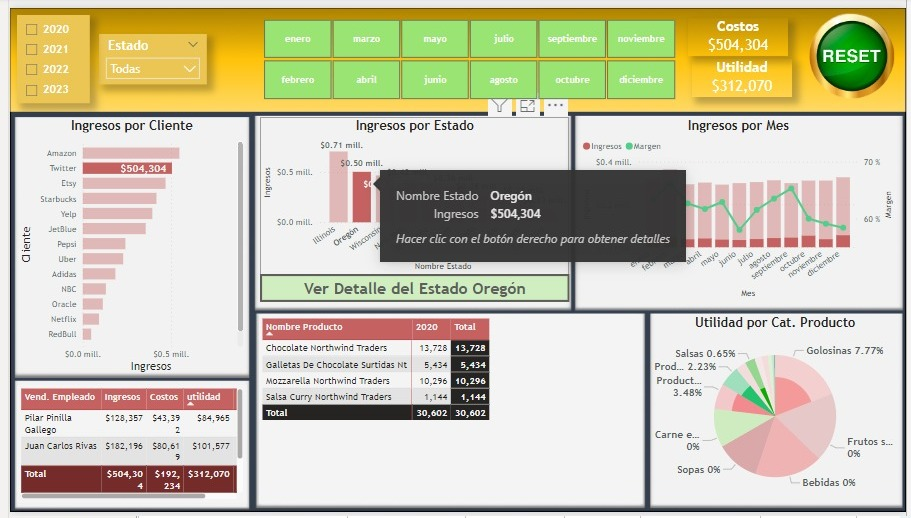

This screenshot's page, from the dashboard's own definition file:
{"tool":"powerbi","page":{"name":"Medidas ","canvas":[1280,720],"ordinal":3},"visuals":[{"type":"clusteredBarChart","title":"Ingresos por Cliente ","fields":{"Y":["Medidas DAX.Ingresos"],"Category":["Ventas.Cliente"]},"box":[9.7,155.7,328,371.1],"z":0},{"type":"columnChart","title":"Ingresos por Estado ","fields":{"Category":["Ventas.Nombre Estado"],"Y":["Medidas DAX.Ingresos"]},"box":[356.7,155.5,442.4,225.5],"z":1000},{"type":"lineStackedColumnComboChart","title":"Ingresos por Mes","fields":{"Category":["calendario.fecha .Variación.Jerarquía de fechas.Mes"],"Y":["Medidas DAX.Ingresos"],"Y2":["Medidas DAX.Margen"]},"box":[813.4,155.5,455.2,264],"z":2000},{"type":"pieChart","title":"Utilidad por Cat. Producto ","fields":{"Category":["Ventas.Categoria Producto"],"Y":["Sum(Ventas.utilidad)"]},"box":[917.4,436.4,351.7,269.7],"z":3000},{"type":"tableEx","fields":{"Values":["Ventas.Vend. Empleado","Medidas DAX.Ingresos","Medidas DAX.Costos","Medidas DAX.utilidad","Medidas DAX.Margen"]},"box":[10.1,539.2,327.6,168],"z":4000},{"type":"pivotTable","fields":{"Rows":["Ventas.Nombre Producto"],"Columns":["calendario.fecha .Variación.Jerarquía de fechas.Año"],"Values":["Sum(Ventas.Cantidad Vend.)"]},"box":[356.1,438.4,547.6,268.8],"z":5000},{"type":"slicer","fields":{"Values":["Ventas.Nombre Estado"]},"box":[126.5,37.5,154.3,72.3],"z":6000},{"type":"slicer","fields":{"Values":["calendario.fecha .Variación.Jerarquía de fechas.Mes"]},"box":[337.8,9.7,636.6,126.5],"z":7000},{"type":"card","title":"Costos","fields":{"Values":["Sum(Ventas.Ingresos)"]},"box":[968.8,13.9,143.2,54.2],"z":8000},{"type":"slicer","fields":{"Values":["calendario.fecha .Variación.Jerarquía de fechas.Año"]},"box":[9.7,9.7,104.2,126.5],"z":9000},{"type":"image","box":[1137,0,130.7,136.2],"z":10000},{"type":"card","title":"Utilidad","fields":{"Values":["Sum(Ventas.utilidad)"]},"box":[974.6,72.8,142.7,54.2],"z":11000},{"type":"actionButton","box":[356.7,379.6,442.4,40],"z":12000}]}

Visuals, with their boxes in screenshot pixels (x1, y1, x2, y2), scaled from the page's 1280x720 canvas onto the 911x518 screenshot:
"Ingresos por Cliente " clusteredBarChart: (7, 112, 240, 379)
"Ingresos por Estado " columnChart: (254, 112, 569, 274)
"Ingresos por Mes" lineStackedColumnComboChart: (579, 112, 903, 302)
"Utilidad por Cat. Producto " pieChart: (653, 314, 903, 508)
tableEx - Ventas.Vend. Empleado x Medidas DAX.Ingresos: (7, 388, 240, 509)
pivotTable - Ventas.Nombre Producto x calendario.fecha .Variación.Jerarquía de fechas.Año: (253, 315, 643, 509)
slicer - Ventas.Nombre Estado: (90, 27, 200, 79)
slicer - calendario.fecha .Variación.Jerarquía de fechas.Mes: (240, 7, 693, 98)
"Costos" card: (690, 10, 791, 49)
slicer - calendario.fecha .Variación.Jerarquía de fechas.Año: (7, 7, 81, 98)
image: (809, 0, 902, 98)
"Utilidad" card: (694, 52, 795, 91)
actionButton: (254, 273, 569, 302)
